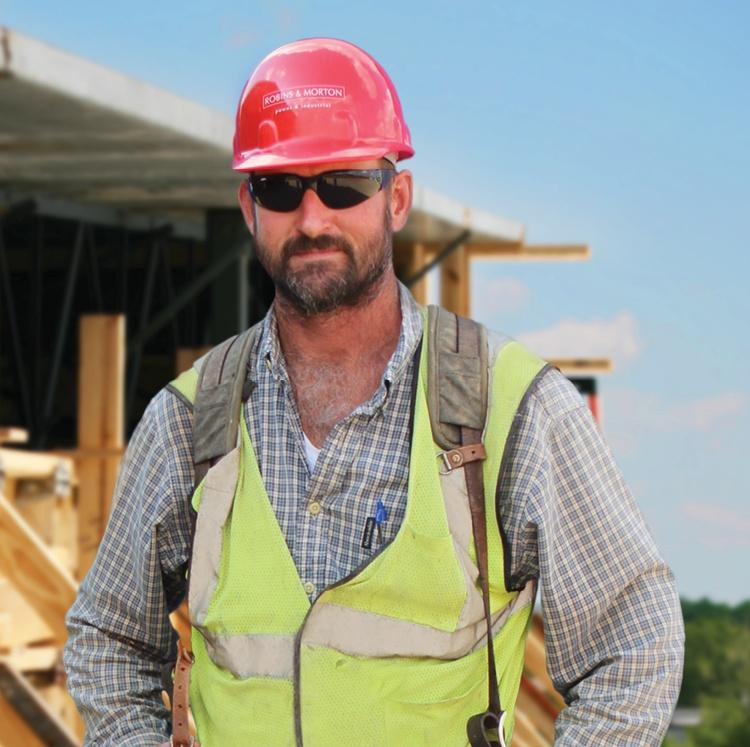helmet: (231, 37, 418, 178)
